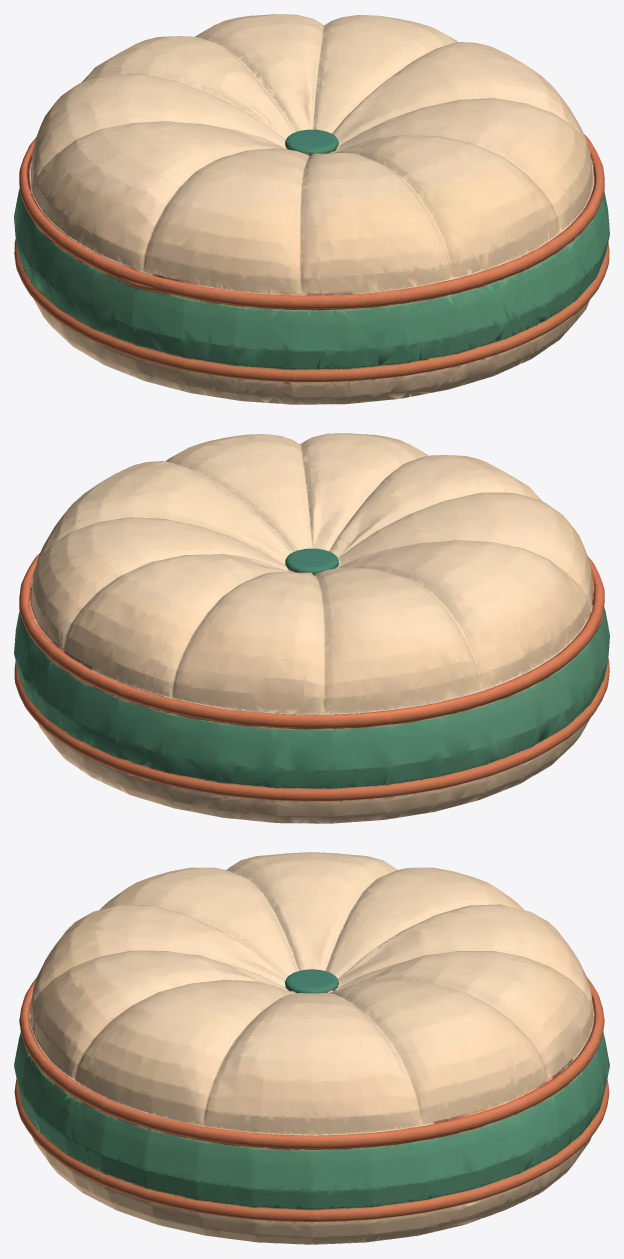
File: majlis-cushion-variant-04-cream-petal-tuft.glb
The picture shows the model from 3 angles, top to bottom: view 1: azimuth 30°, elevation 25°; view 2: azimuth 150°, elevation 25°; view 3: azimuth 270°, elevation 25°; orthographic projection.
Parts seen in each view (by area): view 1: mesh_node; view 2: mesh_node; view 3: mesh_node.
Boxes of the visible parts, x1,y1,x2,y2 form: mesh_node: (14,14,609,404); mesh_node: (14,433,609,823); mesh_node: (14,852,609,1244).
Size of the model in its own units: 1.9 by 0.6852 by 1.9.
1 material, 1 textured.
